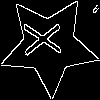X: (24, 21, 70, 57)
